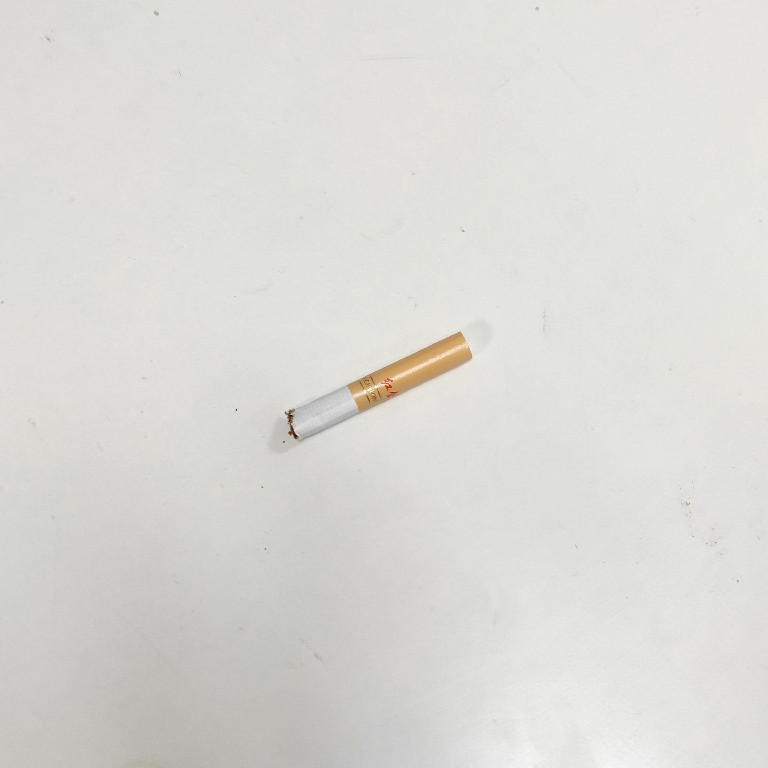cigarette: (284, 326, 477, 444)
